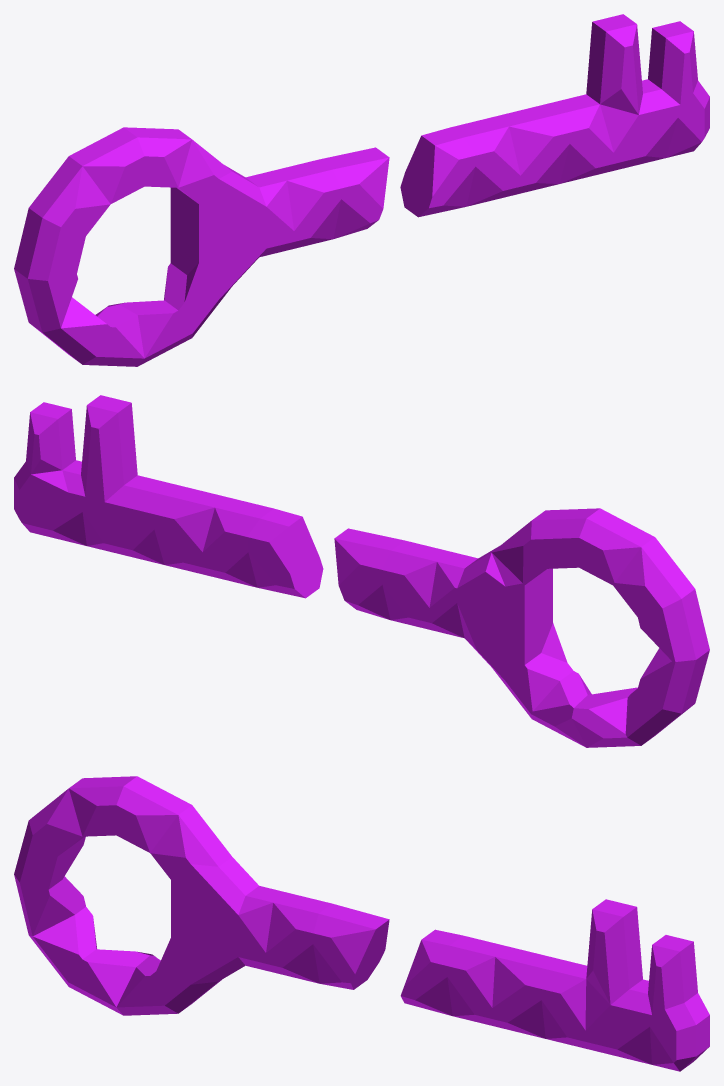
The model's file is key_broken_pink.glb.
The picture shows the model from 3 angles, top to bottom: view 1: azimuth 30°, elevation 25°; view 2: azimuth 150°, elevation 25°; view 3: azimuth 330°, elevation 25°; orthographic projection.
Parts seen in each view (by area): view 1: Circle.023; view 2: Circle.023; view 3: Circle.023.
Part boxes in pixels (x1,y1,x2,y2): Circle.023: [14, 14, 709, 366]; Circle.023: [14, 395, 709, 747]; Circle.023: [14, 776, 709, 1071].
Bounding box in the file's own units: 2.01 × 0.6454 × 0.183.
1 material, 1 textured.
